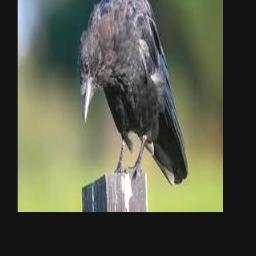Crow: (79, 0, 189, 186)
